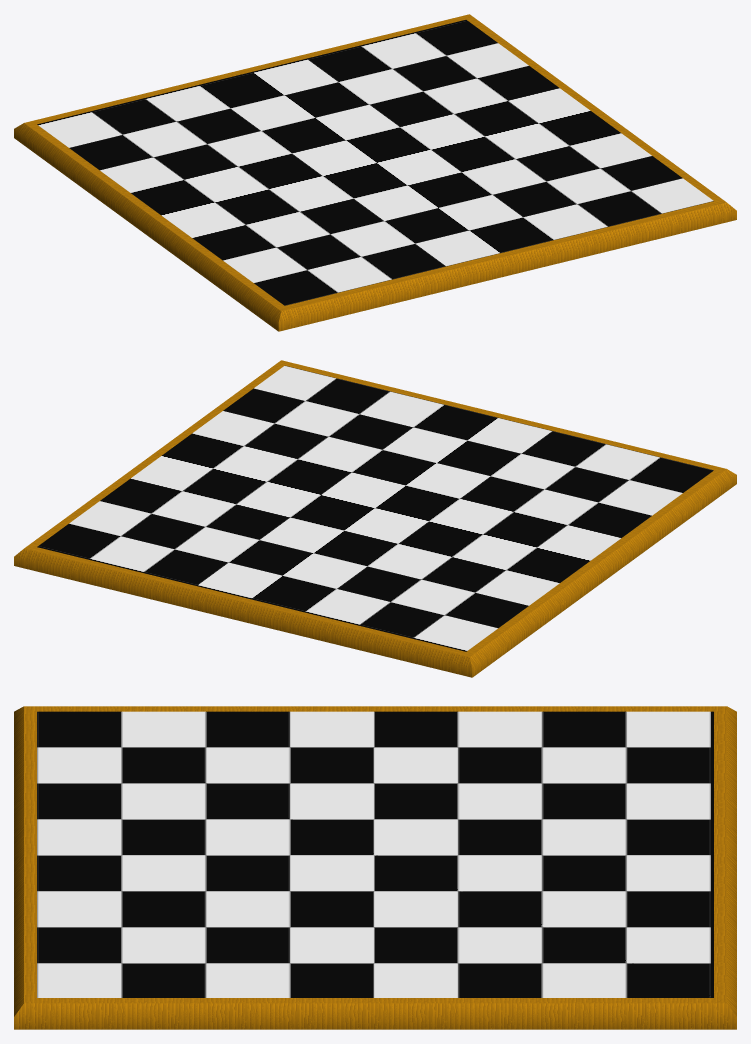
File: Board.obj
The picture shows the model from 3 angles, top to bottom: view 1: azimuth 30°, elevation 25°; view 2: azimuth 150°, elevation 25°; view 3: azimuth 270°, elevation 25°; orthographic projection. The views are drawn at different scales.
Parts seen in each view (by area): view 1: mesh01; view 2: mesh01; view 3: mesh01.
Part boxes in pixels (bbox=[...]): mesh01: bbox=[14, 14, 736, 331]; mesh01: bbox=[14, 360, 736, 677]; mesh01: bbox=[14, 706, 736, 1029].
Bounding box in the file's own units: 107 × 3.62 × 107.
2 materials, 2 textured.
